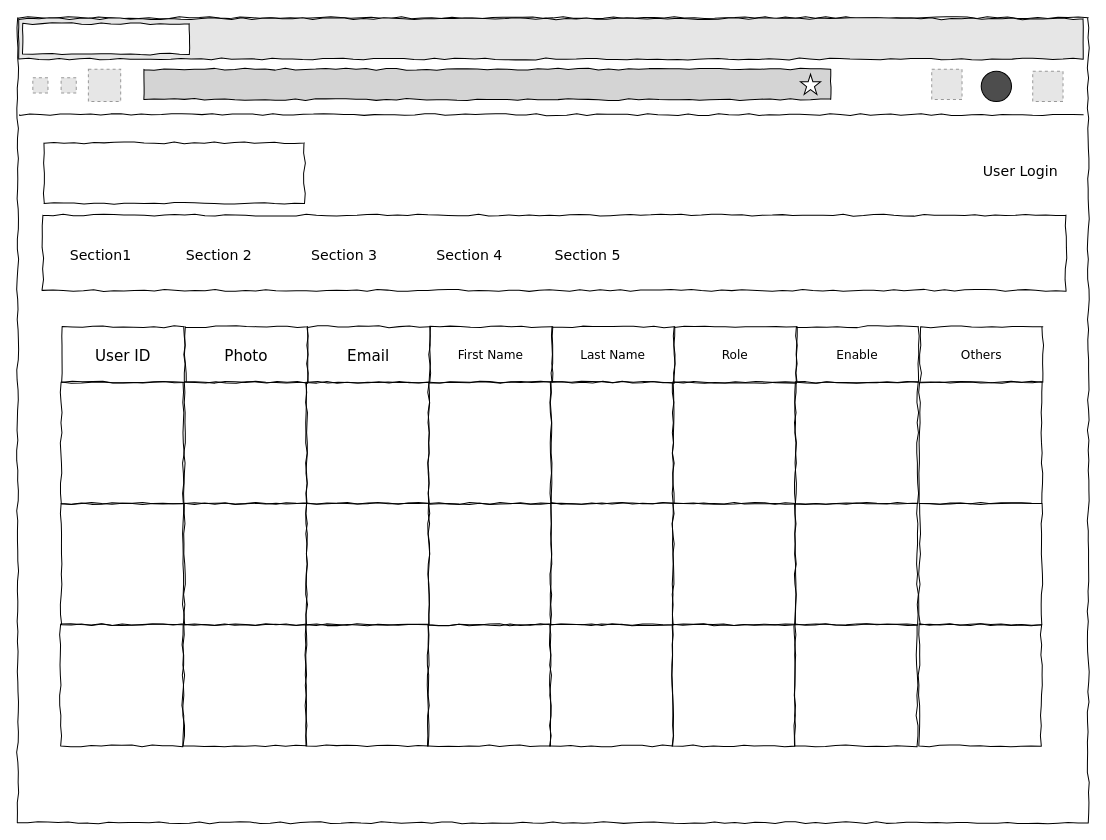
The diagram is 1106 pixels wide and 840 high, and some of its shapes have lost their labels. Grey dashed boxes stand in for pictures. The box of each missing label's shape, as (x1, y1, x2, y2) in pixels:
Manage Users: (43, 142, 305, 204)
www.onloinieshopping.XXXXXXXXXXXXXXXXXXXXXXXXXXXXXXXXXXXXXXXXXXXXXXXXXXXXXXXX: (143, 68, 831, 99)
